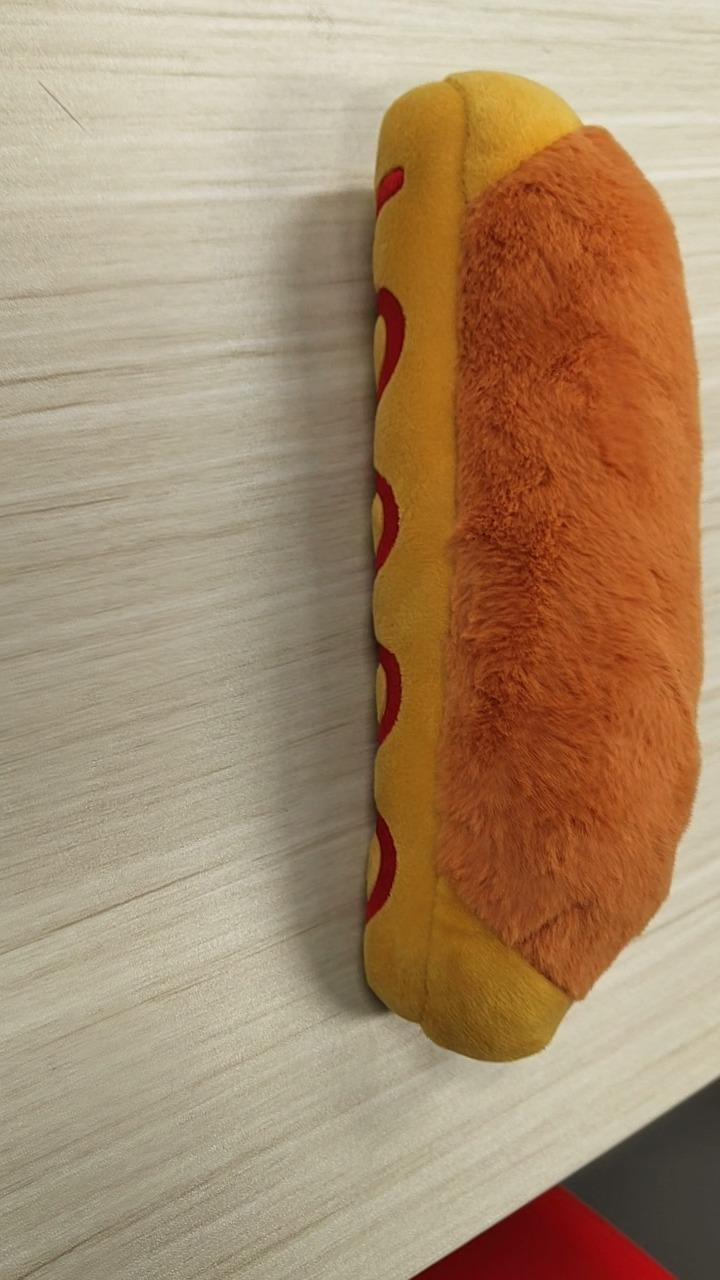hotdog: (360, 68, 704, 1063)
